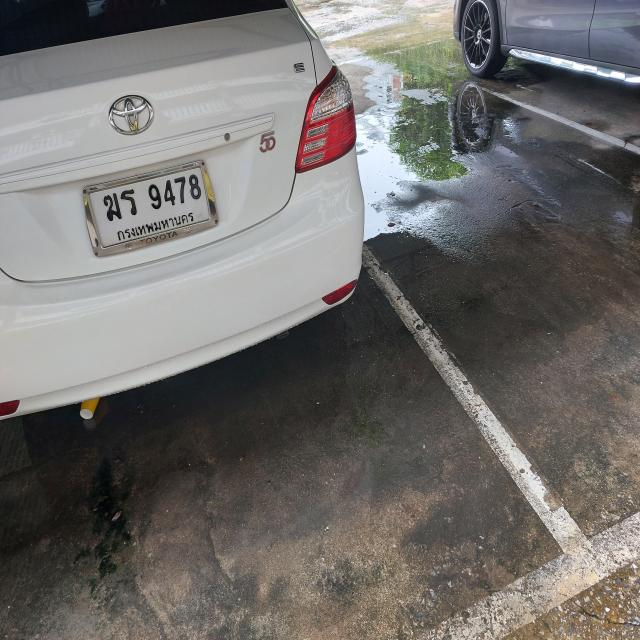license_plate: (81, 156, 221, 258)
